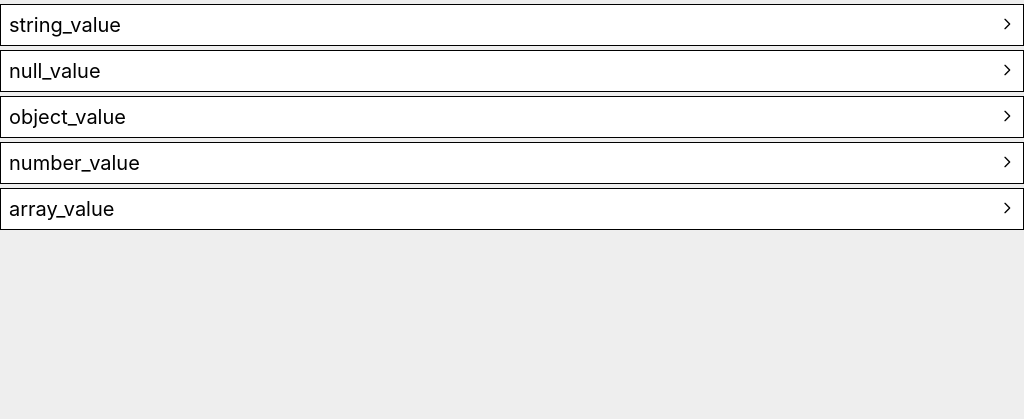
Test: <FetchUrl> › jsonView render nodes and on click should render nested json
# click on string node to show child
Click the text "object_value" at (512, 117), box [0,96,1023,138]
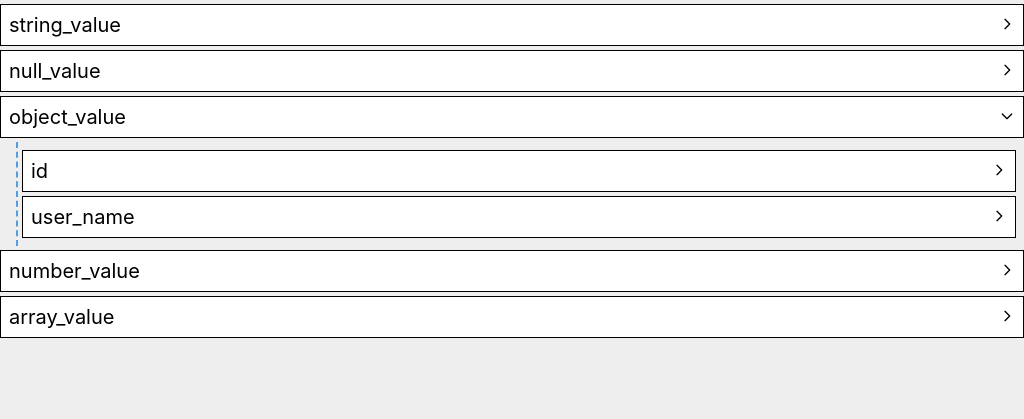
expect the text "id" is shown: met
Click the text "id" at (519, 171), box [22,150,1016,192]
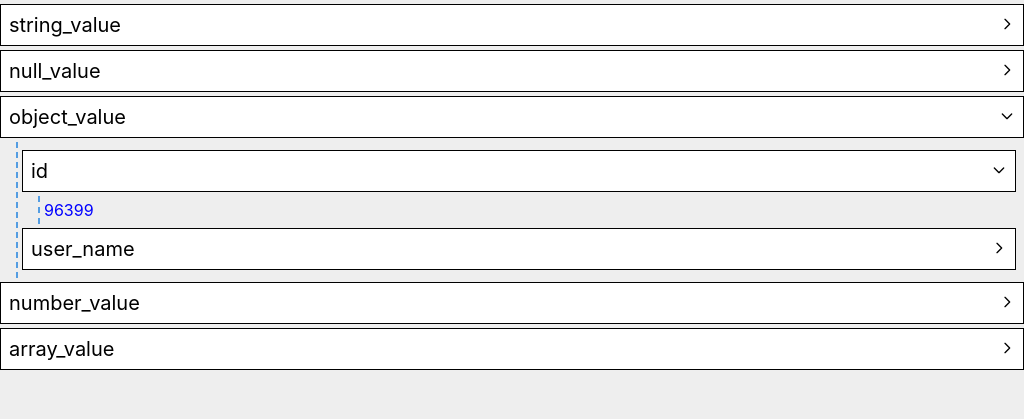
expect the text "random user name" is not shown: met
# nested object value
Click the text "user_name" at (519, 249), box [22,228,1016,270]
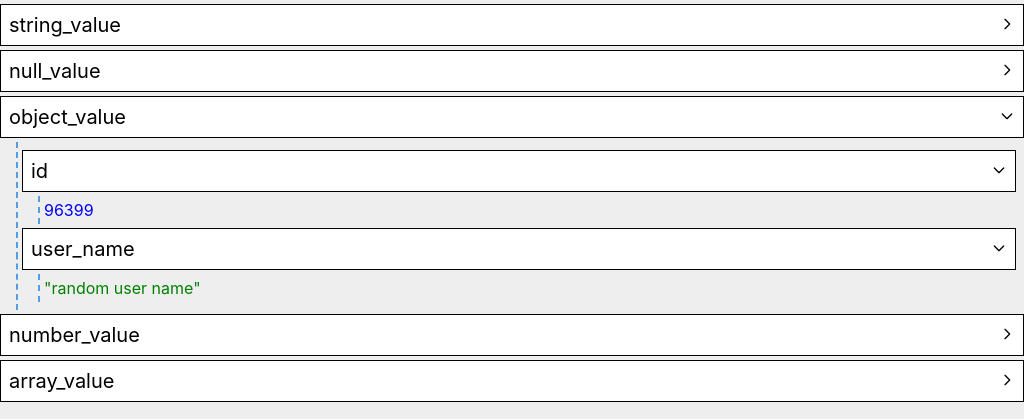
expect the text "\"random user name\"" is shown: met, box [44,278,201,298]
